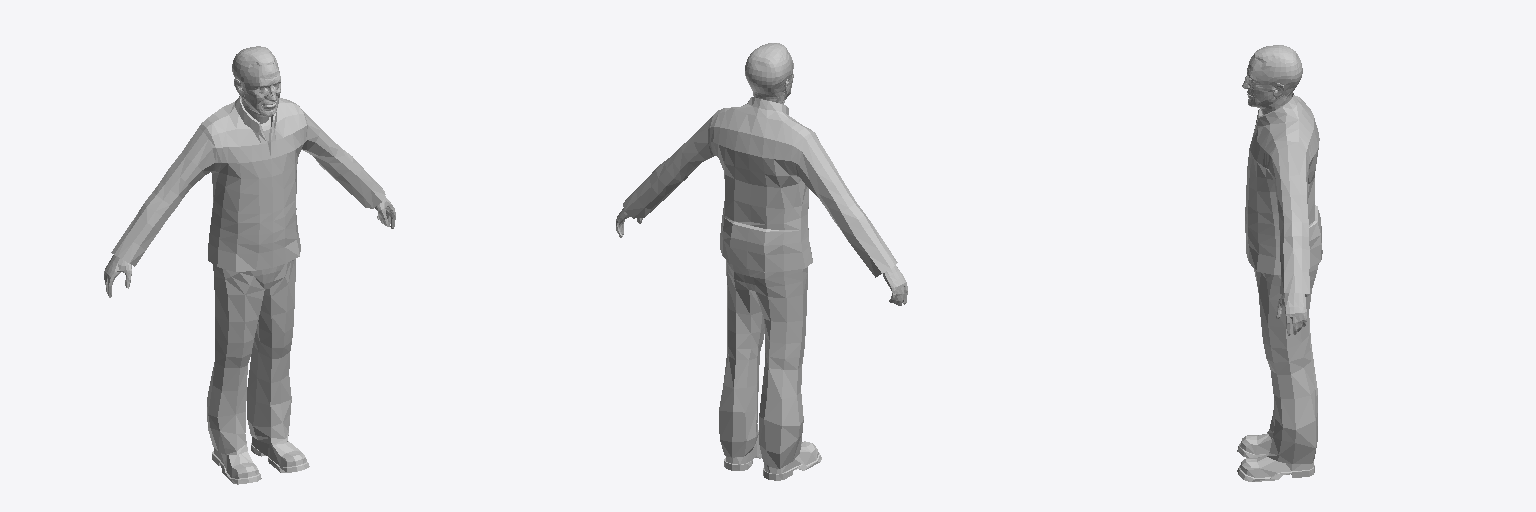
The model's file is vance.obj.
The picture shows the model from 3 angles: view 1: azimuth 30°, elevation 25°; view 2: azimuth 150°, elevation 25°; view 3: azimuth 270°, elevation 25°; orthographic projection.
Visible parts, largest first — view 1: default; view 2: default; view 3: default.
Part boxes in pixels (bbox=[...]): default: bbox=[104, 46, 395, 484]; default: bbox=[616, 43, 907, 480]; default: bbox=[1237, 45, 1322, 481].
Size of the model in its own units: 9.86 by 13.65 by 2.54.